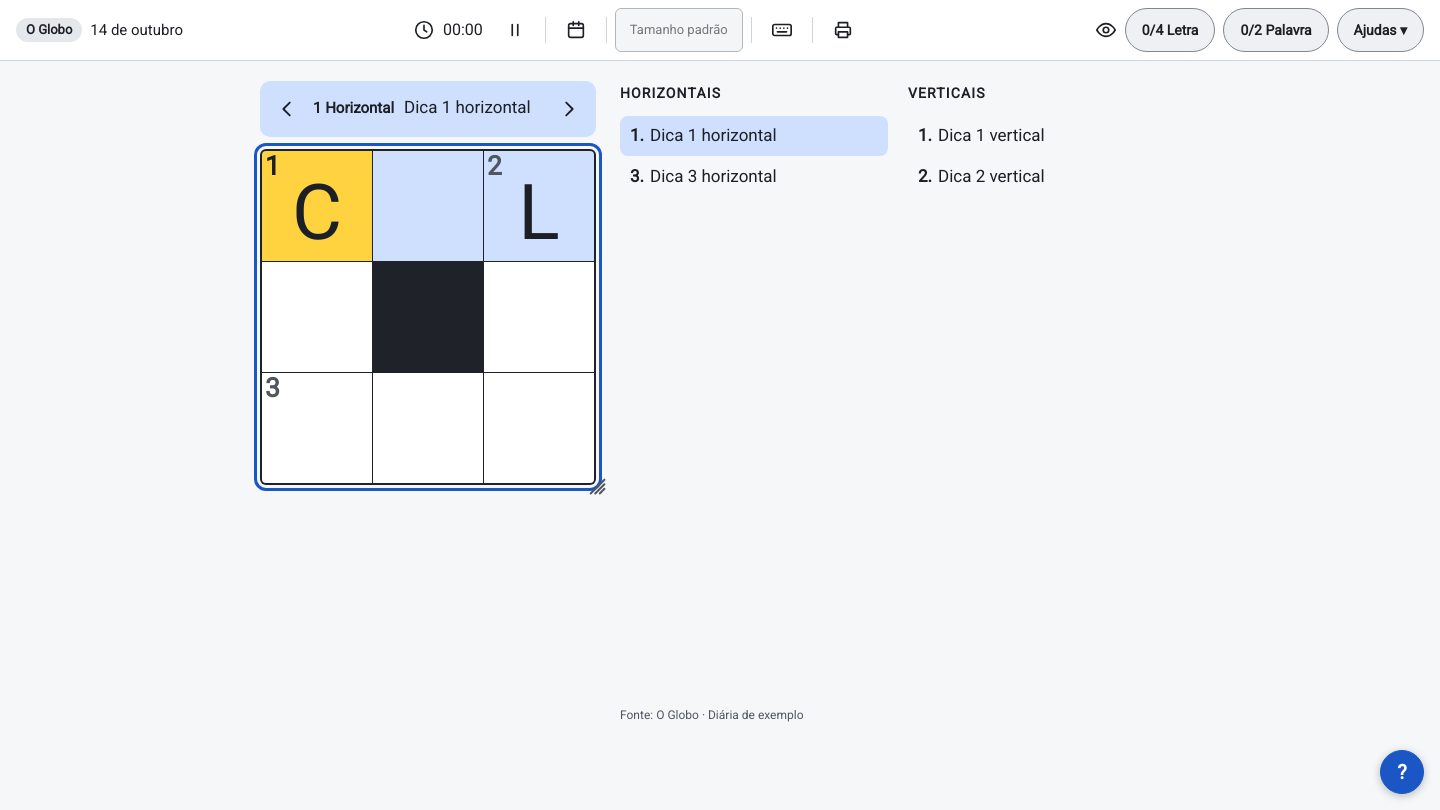
it: copiar a dica com duplo clique (feature 033) › área de transferência recusada mostra o aviso de falha e o jogo segue
This screenshot has width=1440, height=810.
Check: the table is shown, box x1=260 y1=149 x2=596 y2=485
Double-click the button "1Dica 1 horizontal": x=754, y=136 x1=620 y1=116 x2=888 y2=156
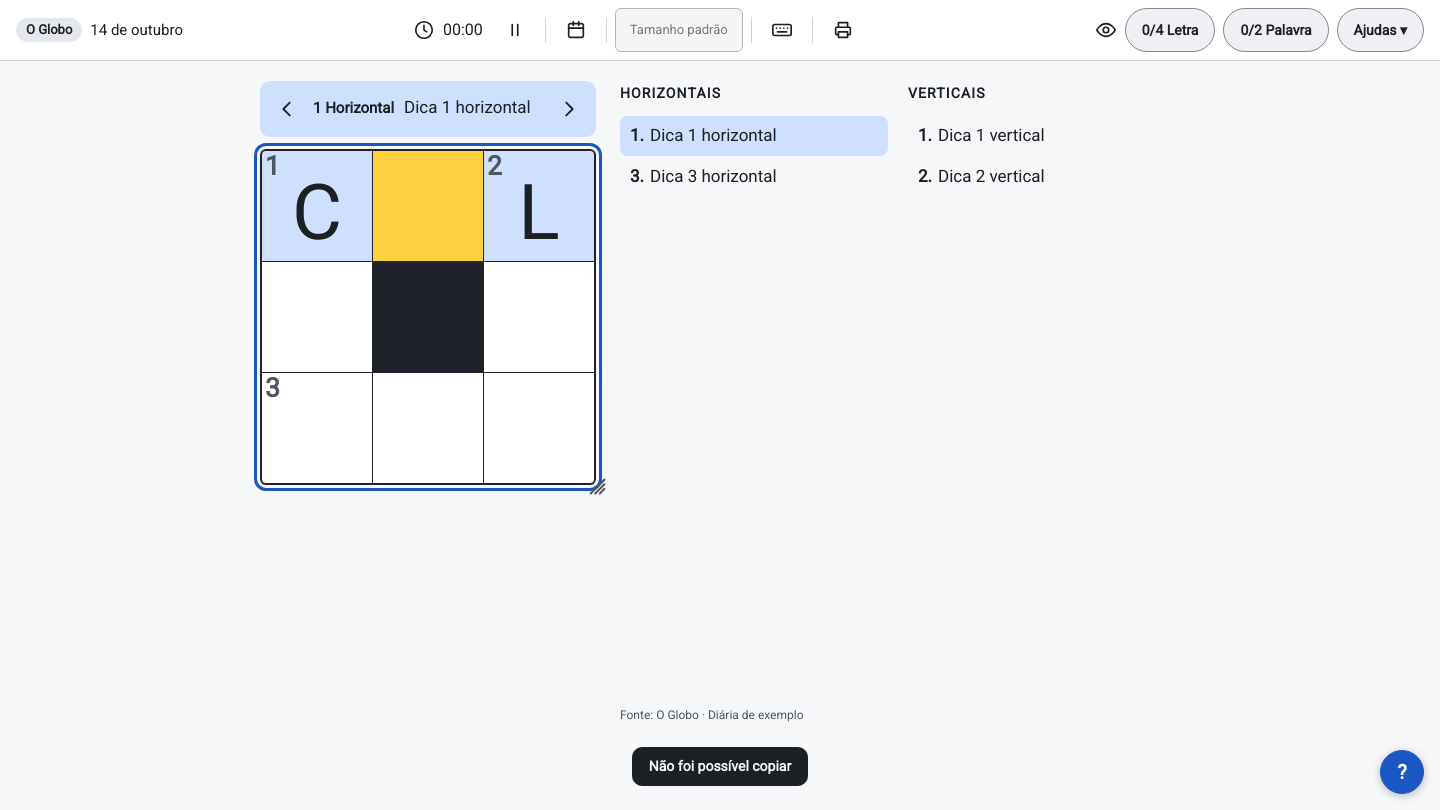
Check: the table is shown, box x1=260 y1=149 x2=596 y2=485
Check: the text "Não foi possível copiar" is shown, box x1=632 y1=747 x2=808 y2=786
